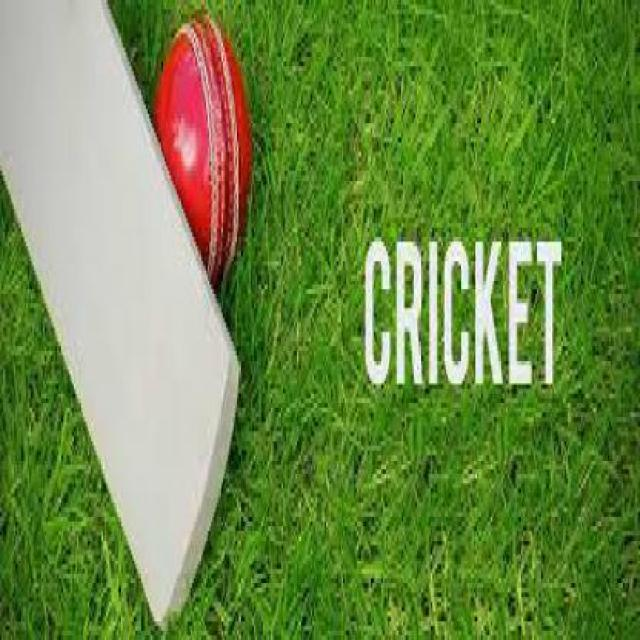ball: (128, 0, 286, 284)
